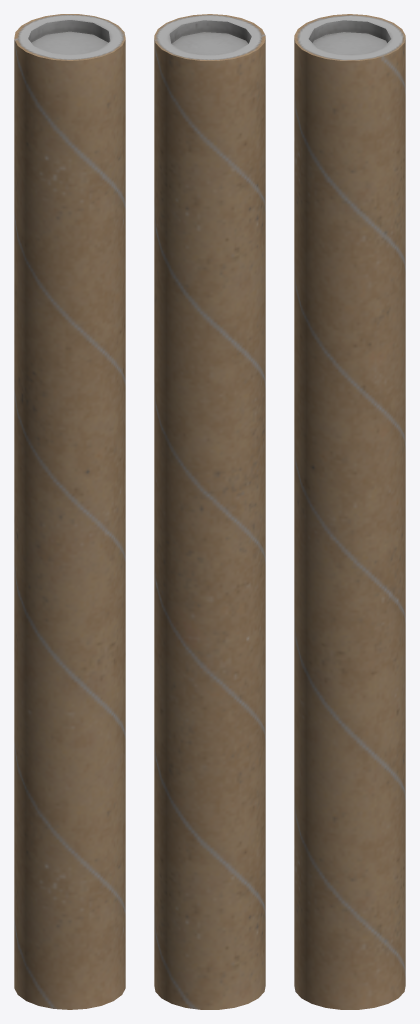
Rendered from SM_Paper_Rolls_01c.fbx.
3 renders of one model, left to right at view 1: azimuth 30°, elevation 25°; view 2: azimuth 210°, elevation 25°; view 3: azimuth 330°, elevation 25°, orthographic.
Parts seen in each view (by area): view 1: SM_Paper_Rolls_01c_LOD0; view 2: SM_Paper_Rolls_01c_LOD0; view 3: SM_Paper_Rolls_01c_LOD0.
Part boxes in pixels (<box>): SM_Paper_Rolls_01c_LOD0: <box>14,14,125,1009</box>; SM_Paper_Rolls_01c_LOD0: <box>154,14,265,1009</box>; SM_Paper_Rolls_01c_LOD0: <box>294,14,405,1009</box>.
Bounding box in the file's own units: 7.6 × 7.62 × 71.44.
